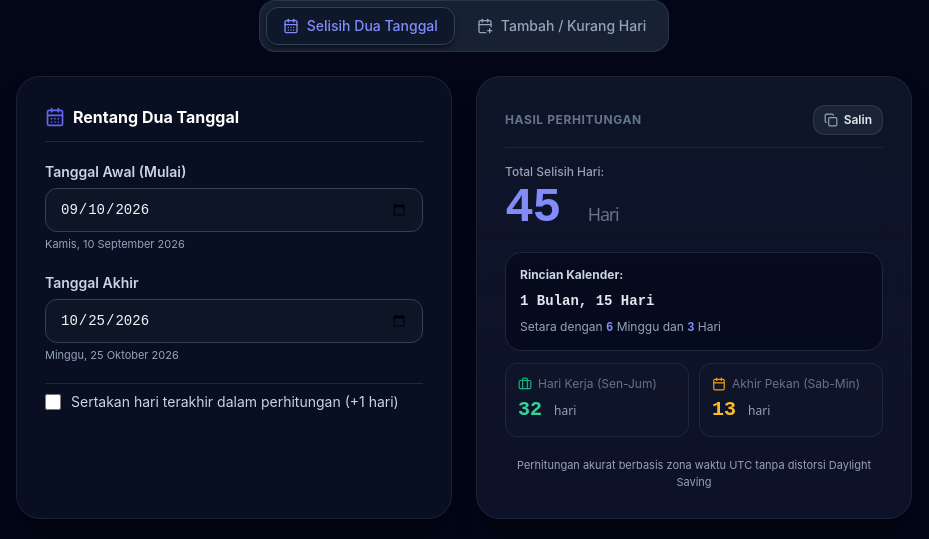
Scenario: DateTimeCalculator Suite › switches between date diff and add-sub tabs
expect the heading "Rentang Dua Tanggal" is shown: met, box [73,105,239,129]
Step 1. Click the tab "Tambah / Kurang Hari" → (562, 26), box [461,8,662,44]
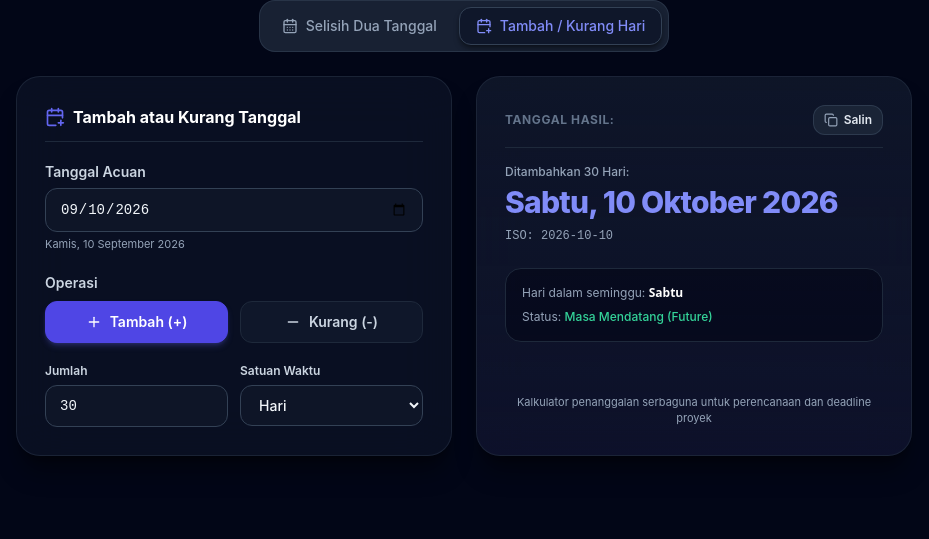
expect the heading "Tambah atau Kurang Tanggal" is shown: met, box [73,105,301,129]
